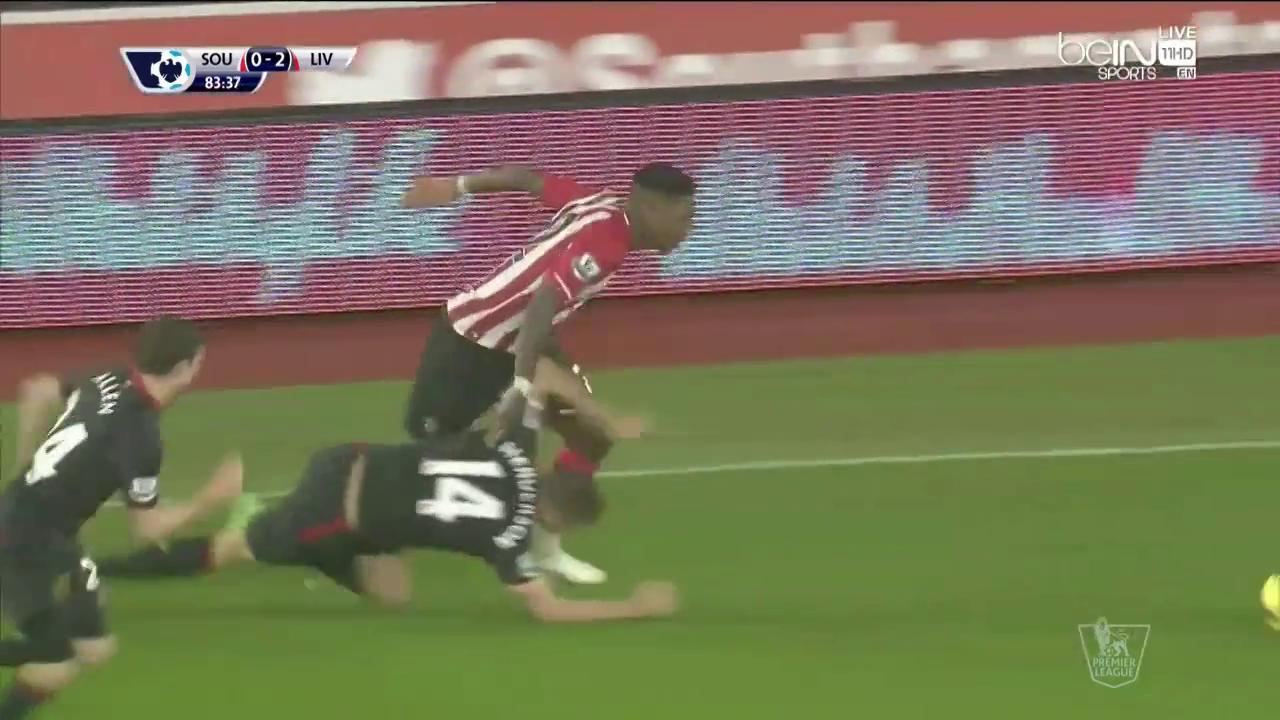football: (1258, 565, 1280, 638)
